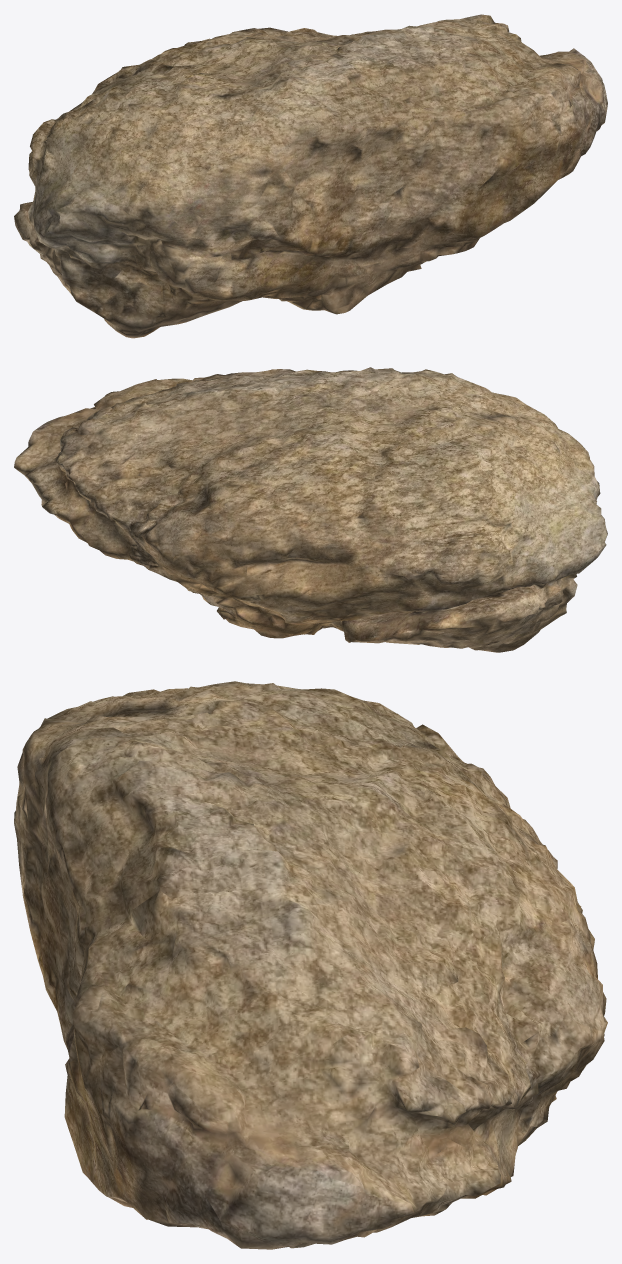
File: desert_boulder_round.glb
The picture shows the model from 3 angles, top to bottom: view 1: azimuth 30°, elevation 25°; view 2: azimuth 150°, elevation 25°; view 3: azimuth 270°, elevation 25°; orthographic projection. The views are drawn at different scales.
Visible parts, largest first — view 1: namaqualand_boulder_05; view 2: namaqualand_boulder_05; view 3: namaqualand_boulder_05.
Boxes of the visible parts, bbox=[...] form: namaqualand_boulder_05: bbox=[14, 14, 607, 338]; namaqualand_boulder_05: bbox=[14, 367, 607, 652]; namaqualand_boulder_05: bbox=[14, 681, 607, 1249].
Size of the model in its own units: 1.36 by 0.5339 by 0.748.
Materials: 1 (1 with a texture image).
